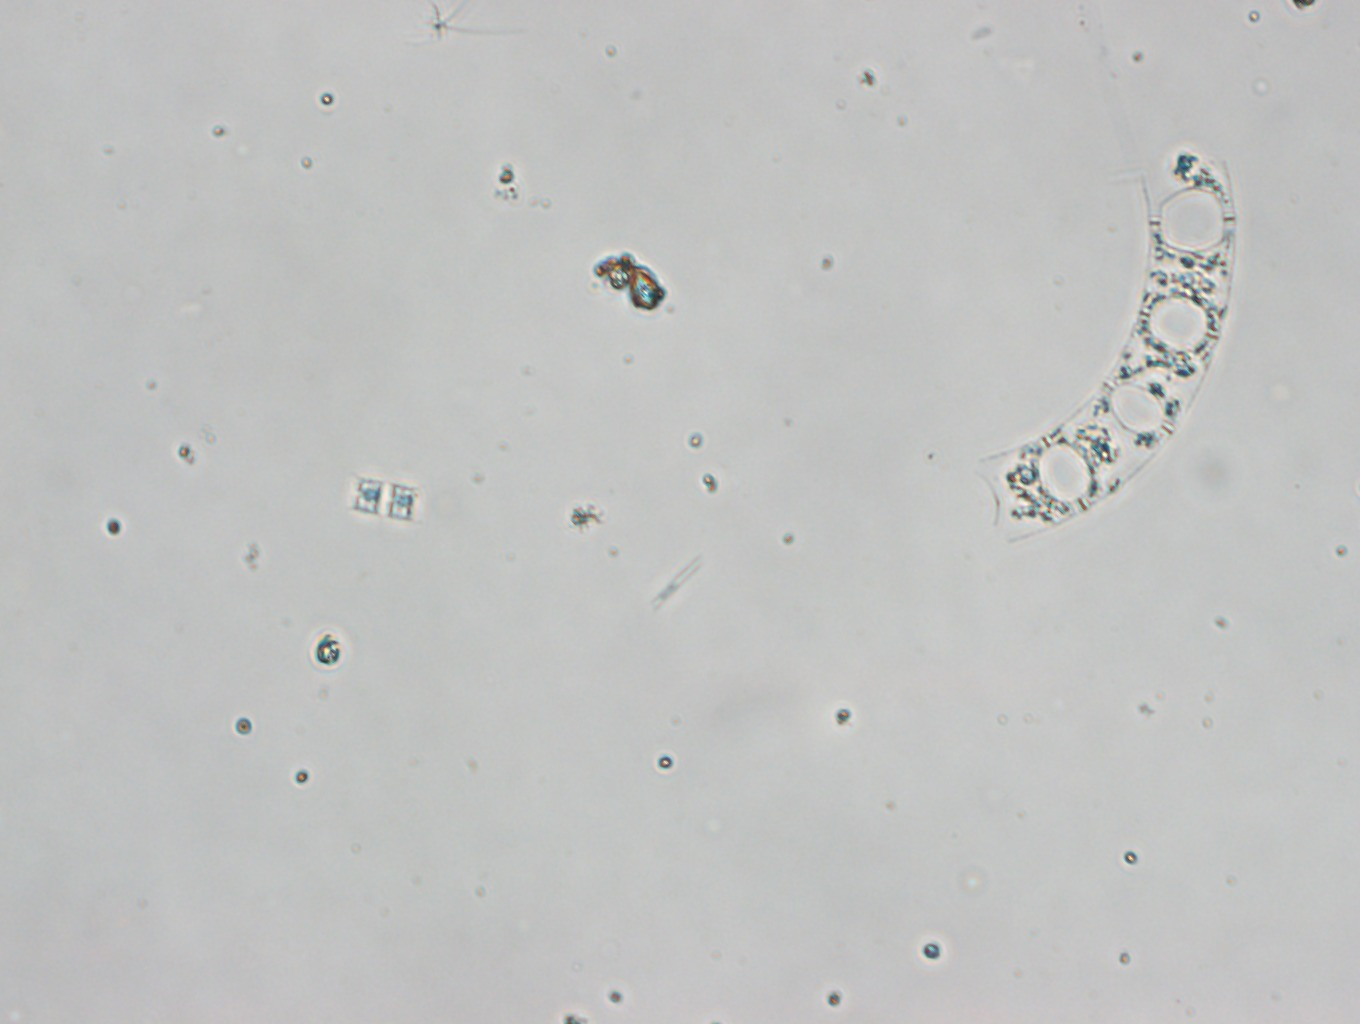eucampia: (974, 147, 1240, 541)
